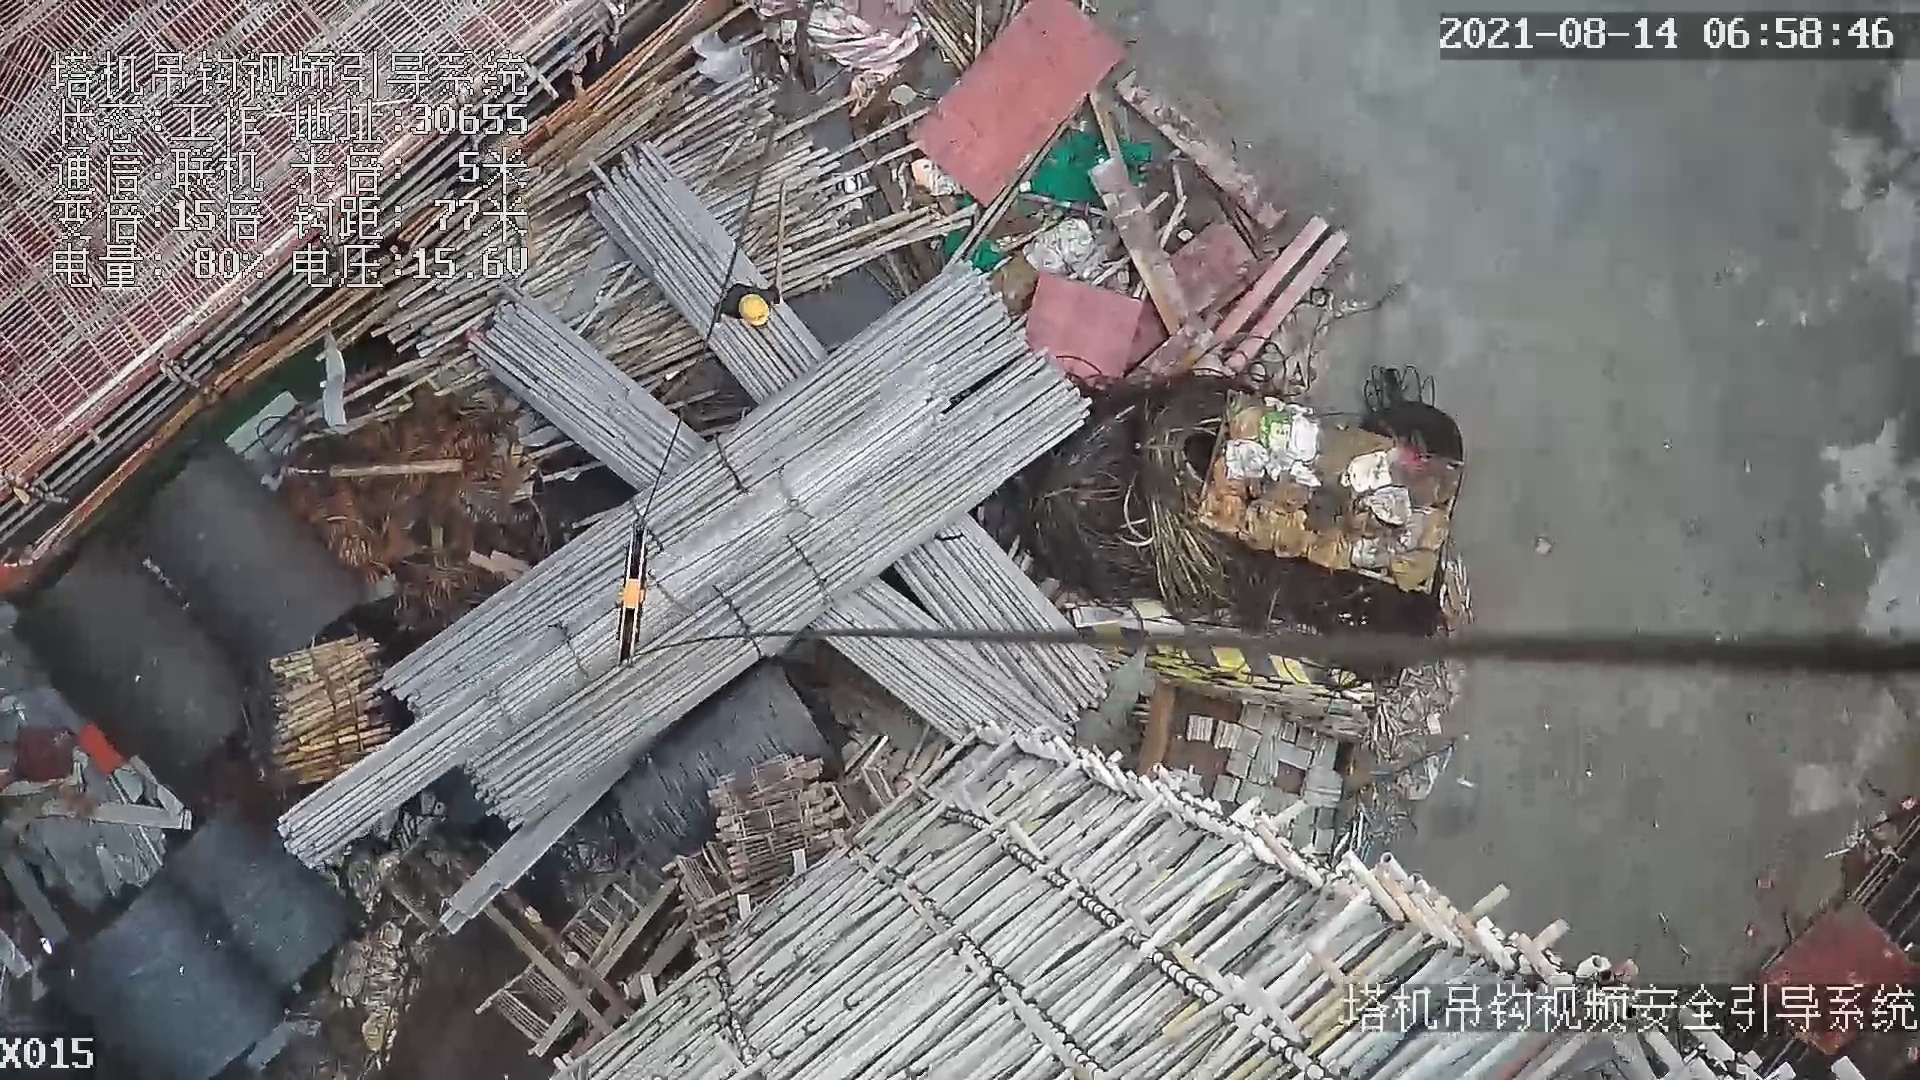helmet: (738, 294, 769, 326)
hook: (612, 517, 649, 667)
person: (704, 283, 790, 332)
rebar: (278, 385, 947, 869), (462, 353, 1098, 834), (378, 266, 1029, 729), (590, 138, 1105, 716), (485, 297, 1074, 746)
scaffold: (274, 635, 396, 783)
